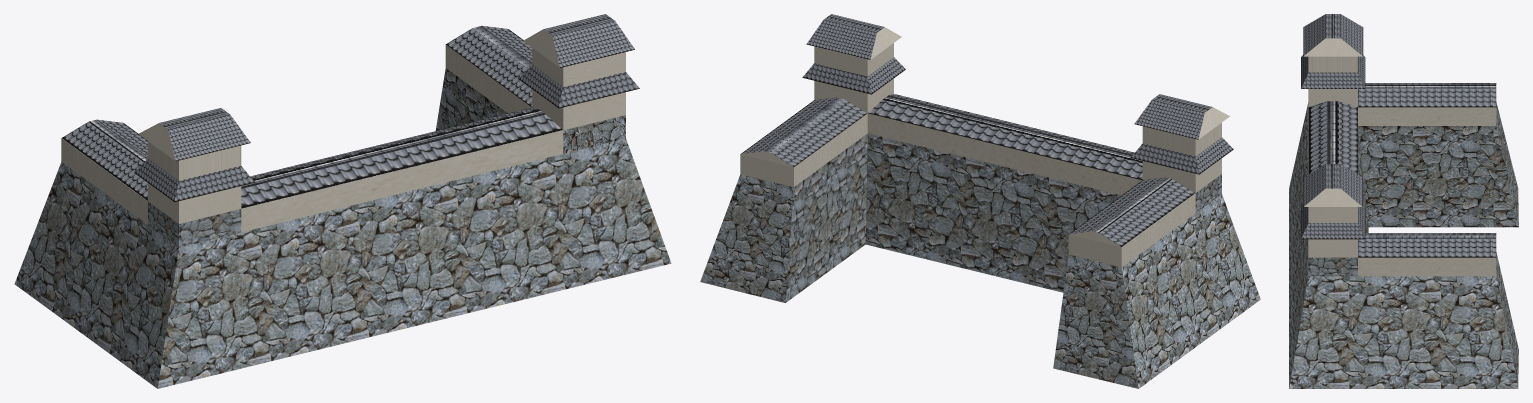
File: nishi_demaru.fbx
3 views of the same model, side by side, from view 1: azimuth 30°, elevation 25°; view 2: azimuth 150°, elevation 25°; view 3: azimuth 270°, elevation 25° (orthographic). The views are drawn at different scales.
Visible parts, largest first — view 1: 立方体; view 2: 立方体; view 3: 立方体.
Part boxes in pixels (<box>): 立方体: <box>14,14,671,388</box>; 立方体: <box>700,14,1260,388</box>; 立方体: <box>1289,14,1518,388</box>.
Bounding box in the file's own units: 137 × 59.71 × 66.38.
3 materials, 3 textured.
